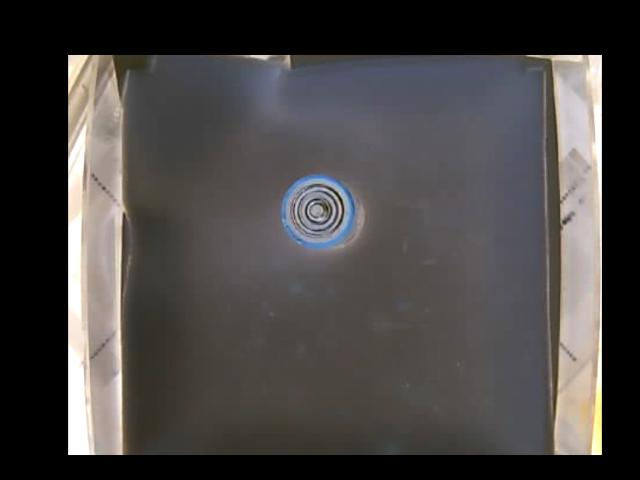Battery: (278, 174, 363, 248)
